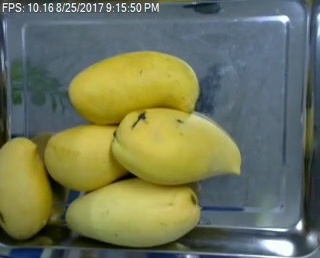Mango: (113, 106, 241, 187), (66, 176, 203, 249), (66, 50, 199, 124), (44, 125, 134, 189), (0, 134, 50, 240)
